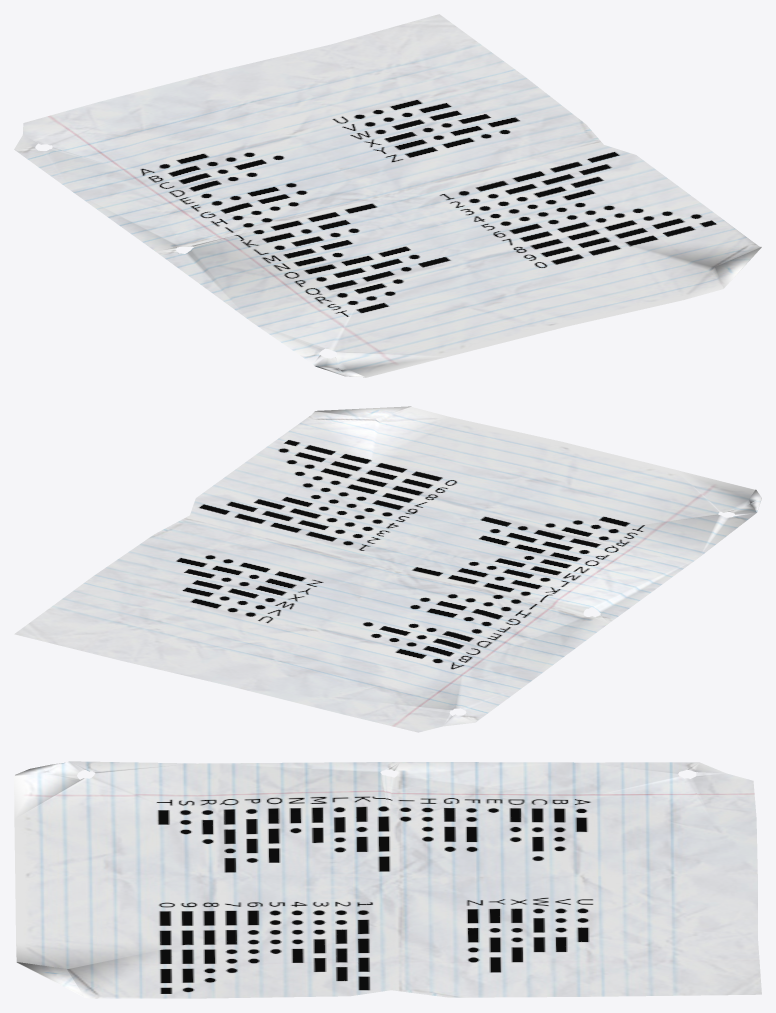
File: Notepad.fbx
The picture shows the model from 3 angles, top to bottom: view 1: azimuth 30°, elevation 25°; view 2: azimuth 150°, elevation 25°; view 3: azimuth 270°, elevation 25°; orthographic projection. The views are drawn at different scales.
Parts seen in each view (by area): view 1: paper_sheet; view 2: paper_sheet; view 3: paper_sheet.
Boxes of the visible parts, x1=… form: paper_sheet: x1=14, y1=14, x2=761, y2=377; paper_sheet: x1=14, y1=406, x2=761, y2=732; paper_sheet: x1=14, y1=761, x2=761, y2=998.
Size of the model in its own units: 17.18 by 0.2014 by 22.82.
1 material, 1 textured.
